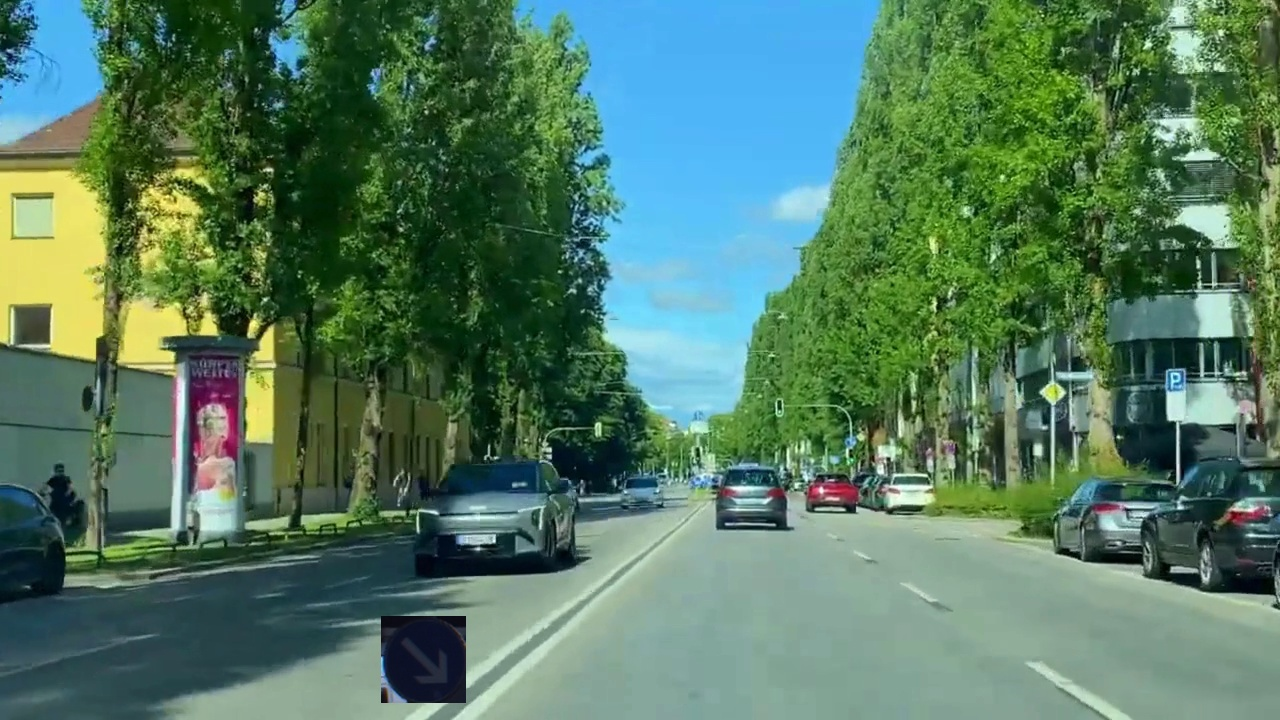Keep right: (381, 616, 466, 703)
